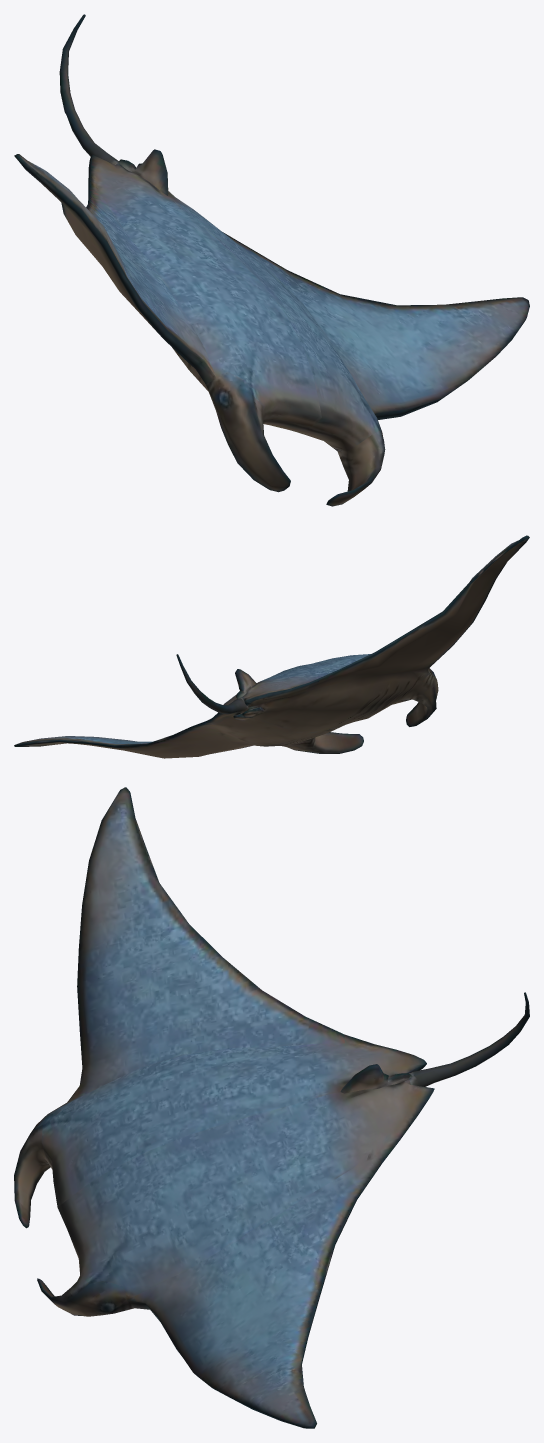
The model's file is ph_bronze_ray_statue.glb.
3 renders of one model, top to bottom at view 1: azimuth 30°, elevation 25°; view 2: azimuth 150°, elevation 25°; view 3: azimuth 270°, elevation 25°, orthographic. The views are drawn at different scales.
Visible parts, largest first — view 1: bronze_ray_statue; view 2: bronze_ray_statue; view 3: bronze_ray_statue.
Part boxes in pixels (<box>): bronze_ray_statue: <box>14,14,529,506</box>; bronze_ray_statue: <box>14,535,529,758</box>; bronze_ray_statue: <box>14,787,529,1428</box>.
Size of the model in its own units: 0.7075 by 0.4387 by 0.5355.
Materials: 1 (1 with a texture image).
